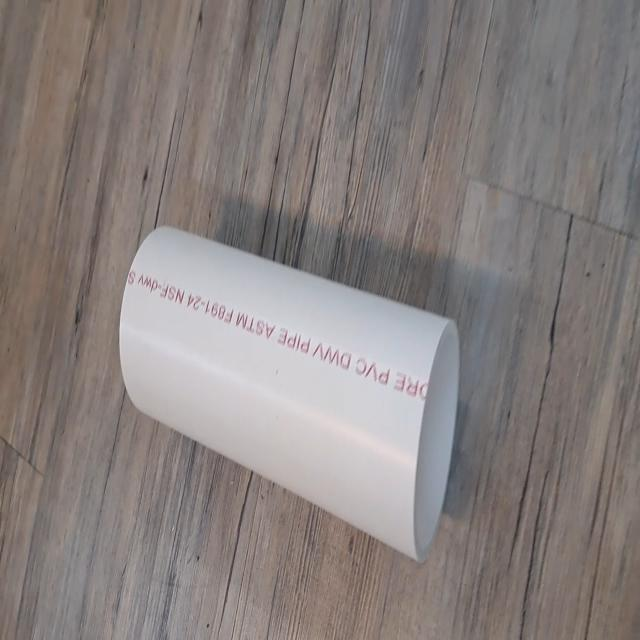CORAL: (115, 218, 466, 569)
